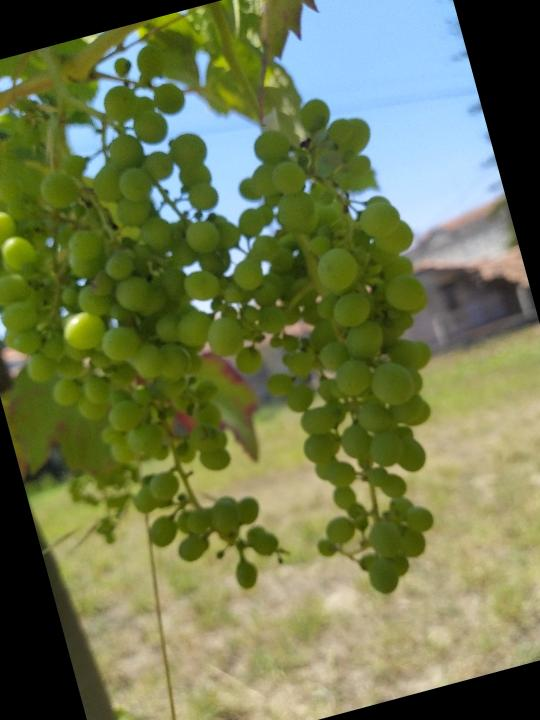grape: (0, 36, 332, 641), (192, 80, 504, 613)
